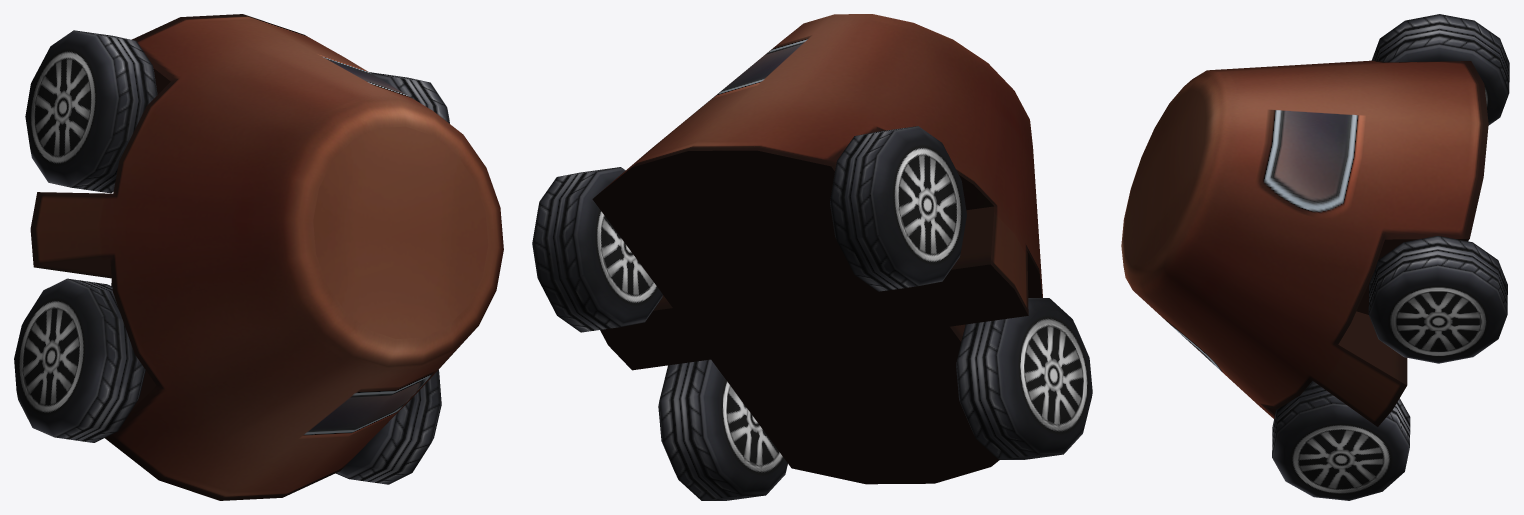
The model's file is pino_anime.fbx.
The picture shows the model from 3 angles, left to right: view 1: azimuth 30°, elevation 25°; view 2: azimuth 150°, elevation 25°; view 3: azimuth 270°, elevation 25°; orthographic projection. The views are drawn at different scales.
Visible parts, largest first — view 1: Car1; view 2: Car1; view 3: Car1.
Boxes of the visible parts, left/top/right/bottom form: Car1: left=14, top=14, right=503, bottom=500; Car1: left=532, top=14, right=1092, bottom=500; Car1: left=1121, top=14, right=1509, bottom=500.
Bounding box in the file's own units: 4 × 3.8 × 3.39.
